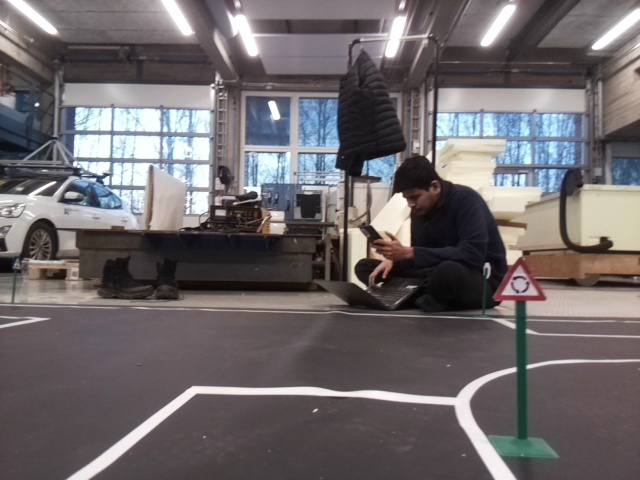Roundabout: (491, 255, 547, 301)
